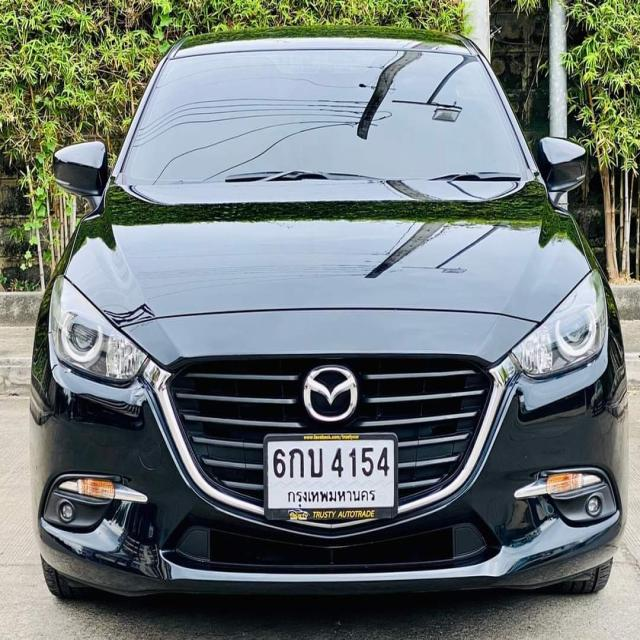license_plate: (262, 432, 399, 522)
